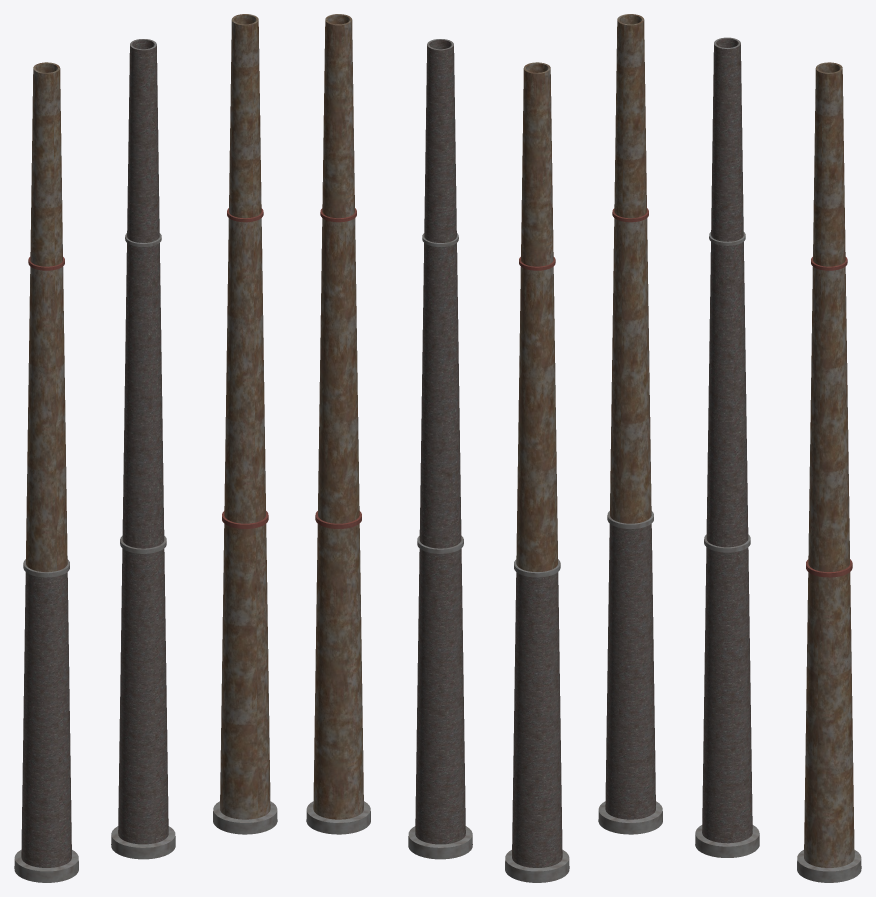
The model's file is stacks.glb.
The picture shows the model from 3 angles, left to right: view 1: azimuth 30°, elevation 25°; view 2: azimuth 150°, elevation 25°; view 3: azimuth 330°, elevation 25°; orthographic projection.
Visible parts, largest first — view 1: m; view 2: m; view 3: m.
Part boxes in pixels (x1,y1,x2,y2): m: (14, 14, 277, 882); m: (306, 14, 569, 882); m: (598, 14, 861, 882).
Size of the model in its own units: 11.51 by 34.61 by 2.53.
Materials: 3 (3 with a texture image).
